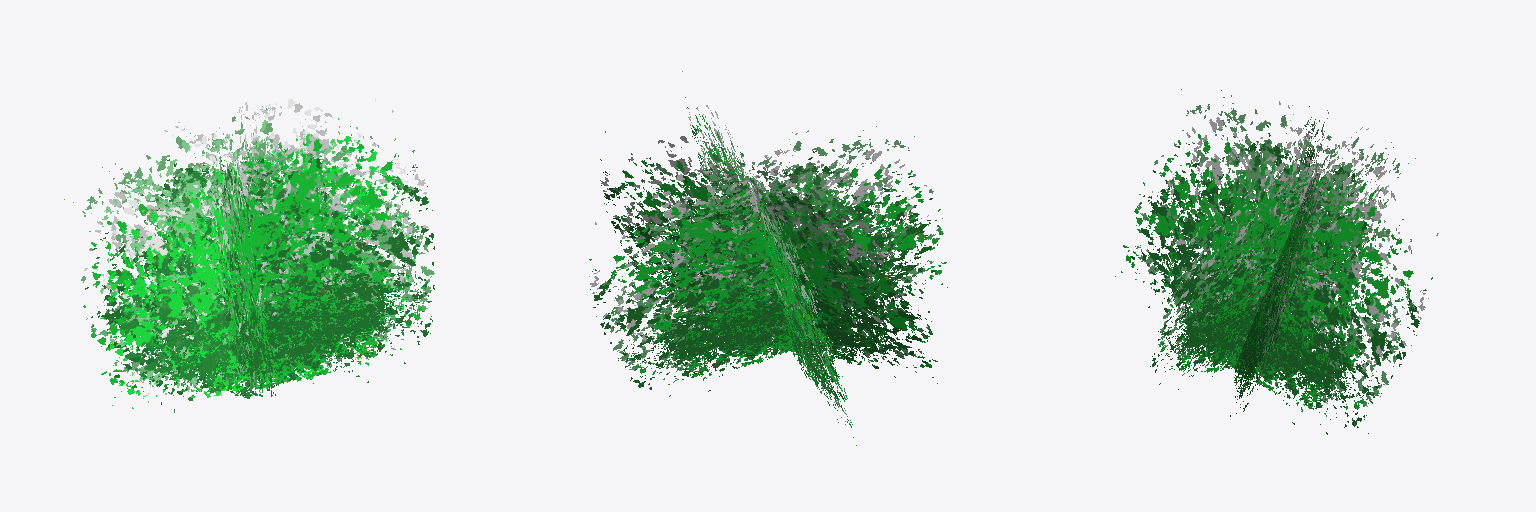
3 renders of one model, left to right at view 1: azimuth 30°, elevation 25°; view 2: azimuth 150°, elevation 25°; view 3: azimuth 270°, elevation 25°, orthographic.
Visible parts, largest first — view 1: weed; view 2: weed; view 3: weed.
Boxes of the visible parts, x1=… form: weed: x1=64, y1=98, x2=434, y2=412; weed: x1=589, y1=71, x2=947, y2=445; weed: x1=1115, y1=89, x2=1438, y2=434.
Size of the model in its own units: 0.9975 by 0.9942 by 0.9728.
1 materials, 1 textured.